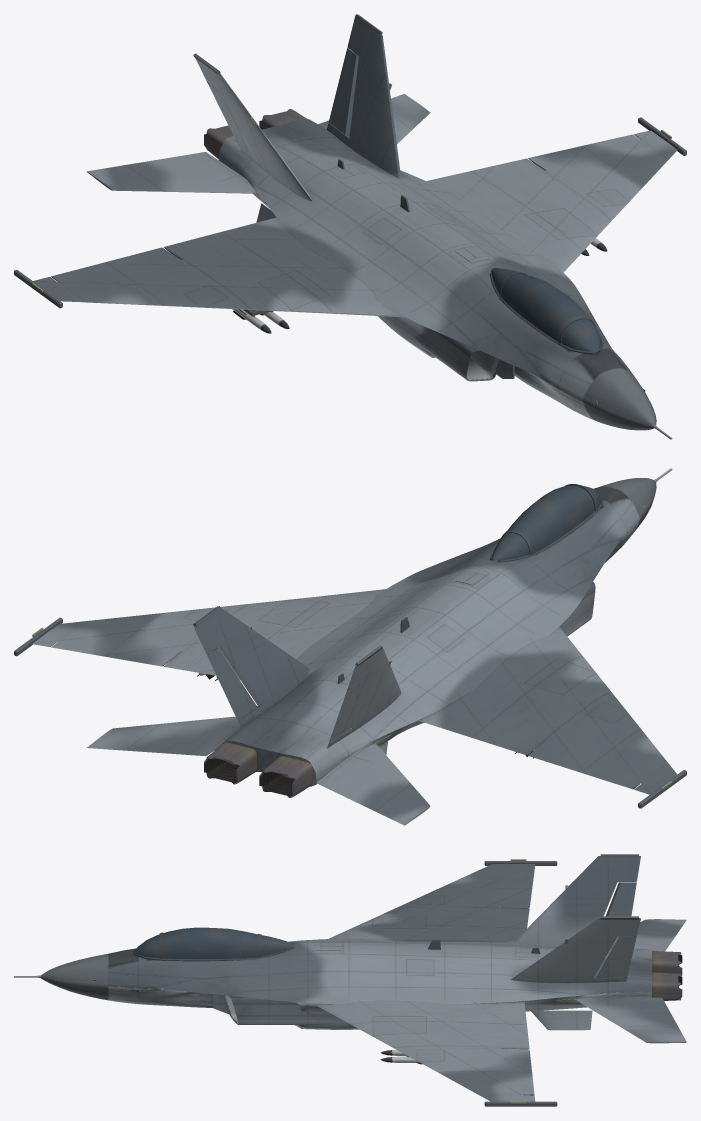
The model's file is kestrel-v2.fbx.
The picture shows the model from 3 angles, top to bottom: view 1: azimuth 30°, elevation 25°; view 2: azimuth 150°, elevation 25°; view 3: azimuth 270°, elevation 25°; orthographic projection. The views are drawn at different scales.
Visible parts, largest first — view 1: Body, Elevator_L, Canopy, Rudder_R, Aileron_L, Aileron_R, Elevator_R; view 2: Body, Elevator_L, Canopy, Elevator_R, Aileron_L, Aileron_R, Rudder_R, Rudder_L; view 3: Body, Canopy, Elevator_R, Elevator_L, Rudder_R, Aileron_R, Aileron_L, Rudder_L.
Boxes of the visible parts, <box> form: Body: <box>14,14,686,439</box>; Elevator_L: <box>86,152,256,193</box>; Canopy: <box>491,267,601,353</box>; Rudder_R: <box>329,48,358,136</box>; Aileron_L: <box>51,247,179,281</box>; Aileron_R: <box>528,134,639,170</box>; Elevator_R: <box>318,94,430,143</box>; Body: <box>14,468,686,808</box>; Elevator_L: <box>316,743,430,825</box>; Canopy: <box>491,485,601,562</box>; Elevator_R: <box>87,716,240,756</box>; Aileron_L: <box>528,741,640,789</box>; Aileron_R: <box>51,641,180,666</box>; Rudder_R: <box>207,647,257,720</box>; Rudder_L: <box>329,682,359,742</box>; Body: <box>14,854,682,1106</box>; Canopy: <box>133,927,293,958</box>; Elevator_R: <box>575,996,686,1043</box>; Elevator_L: <box>614,919,686,951</box>; Rudder_R: <box>596,936,636,978</box>; Aileron_R: <box>500,1048,534,1095</box>; Aileron_L: <box>500,870,534,908</box>; Rudder_L: <box>606,882,636,941</box>.
Bounding box in the file's own units: 22.21 × 5.34 × 26.
1 material, 1 textured.
